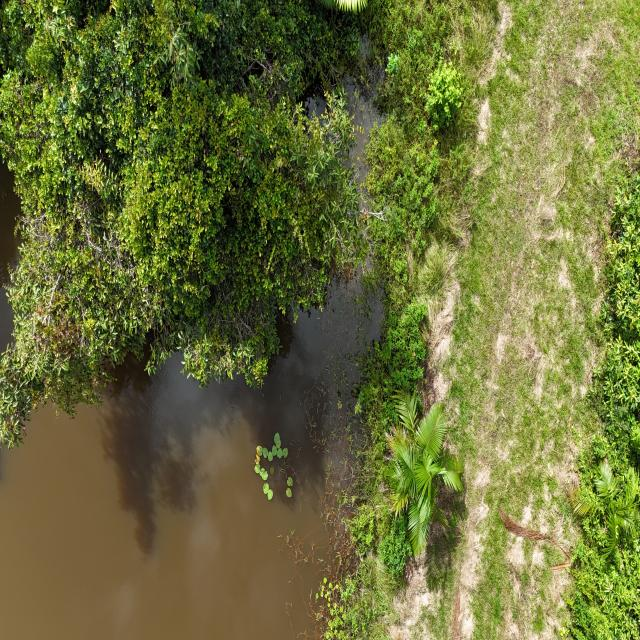vegetation: (382, 390, 464, 558)
